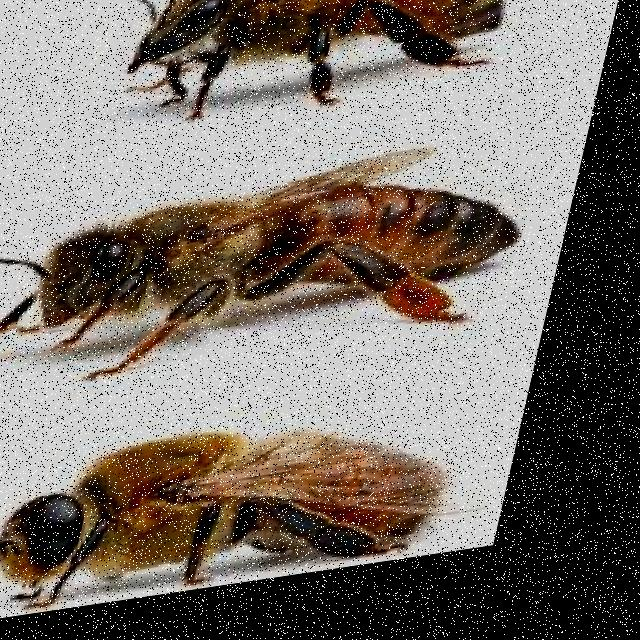Apis-mellifera-scutellata: (0, 146, 585, 416), (0, 402, 529, 632), (94, 0, 542, 148)
